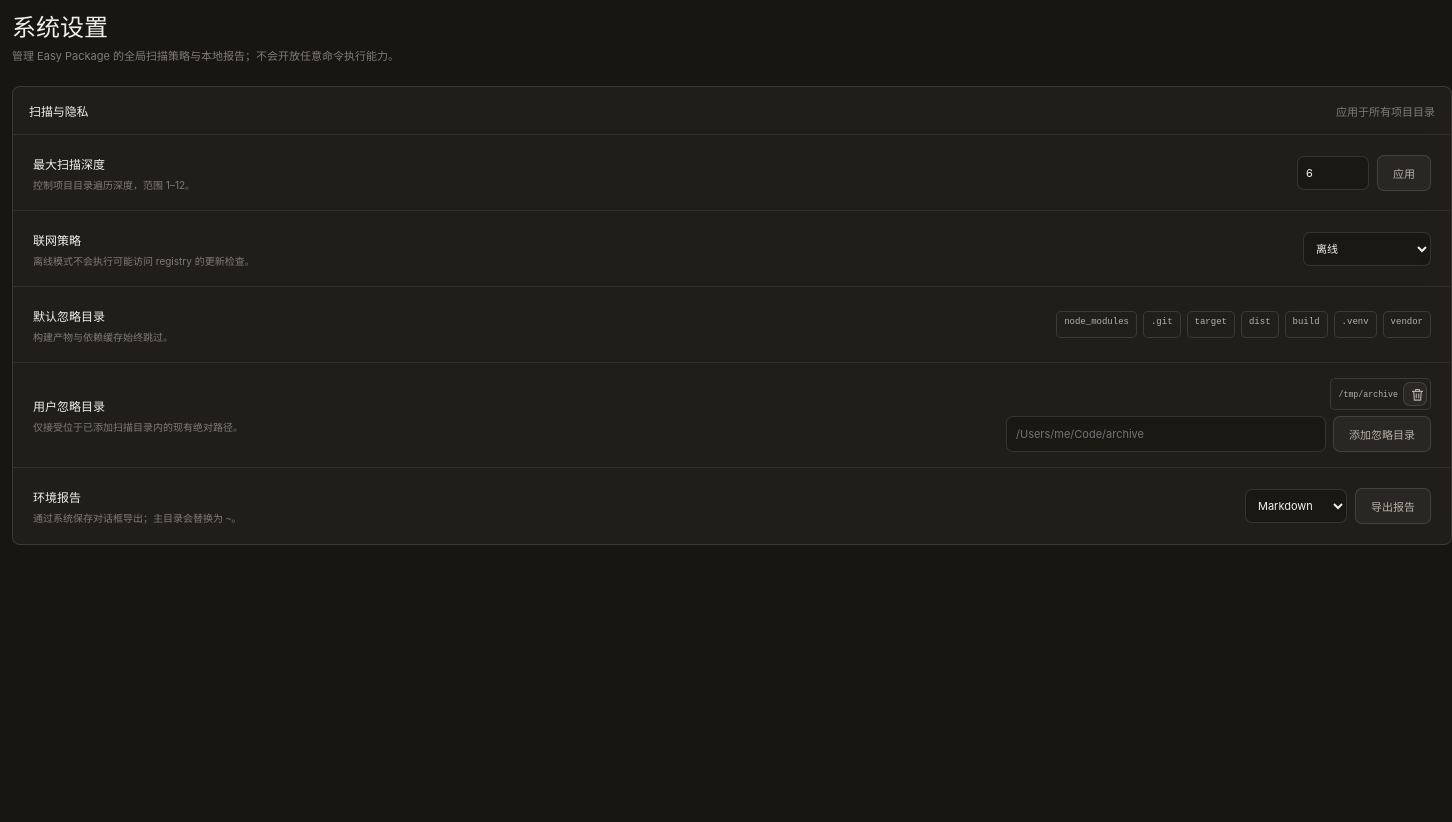
it: SettingsPage › 校验忽略路径并导出环境报告
The image size is (1452, 822).
Type "relative/path" into the field named "忽略目录" at {"x": 1166, "y": 434}, box [1006,416,1326,452]
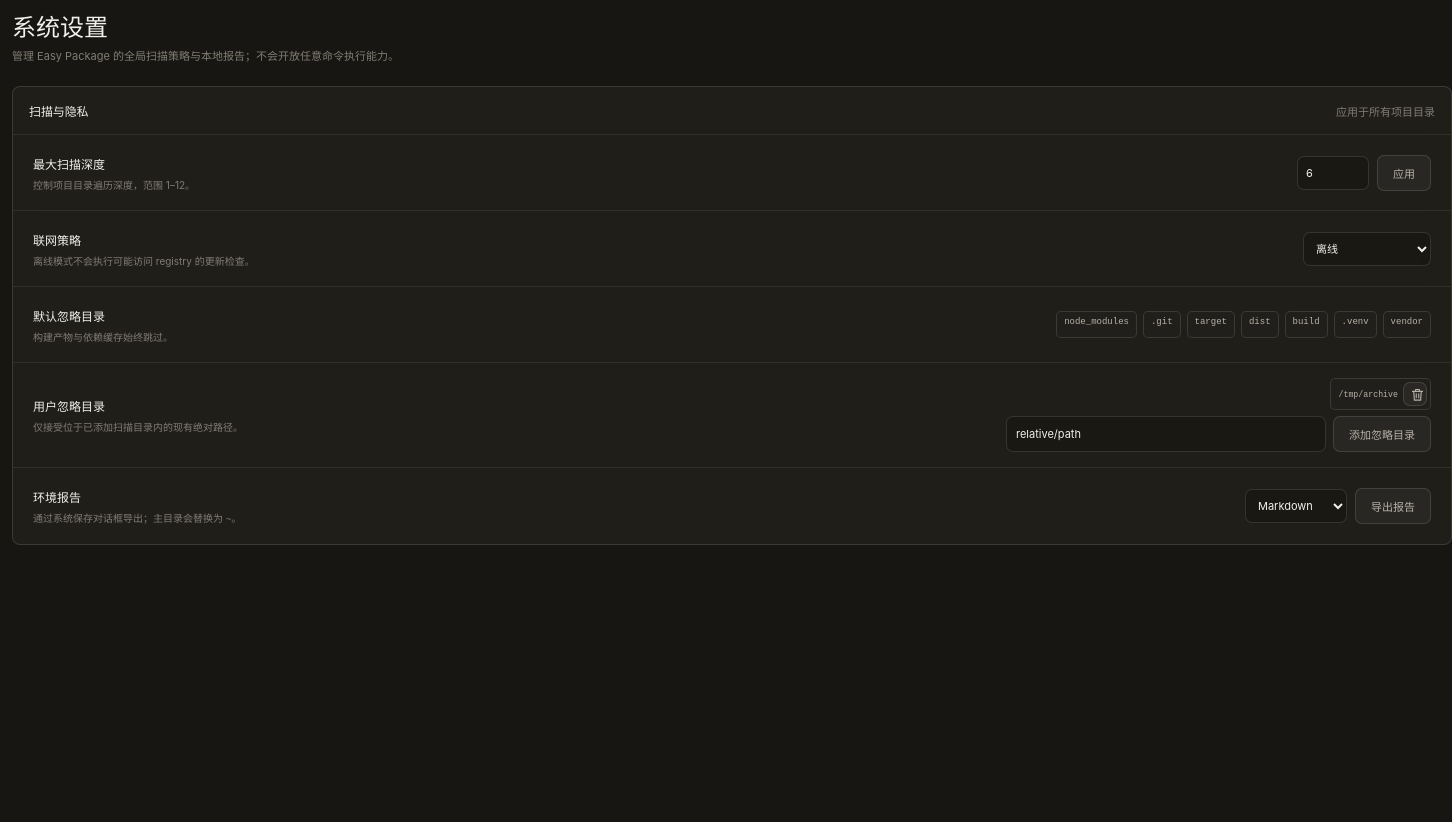
Click the button "添加忽略目录" at {"x": 1382, "y": 434}, box [1333,416,1431,452]
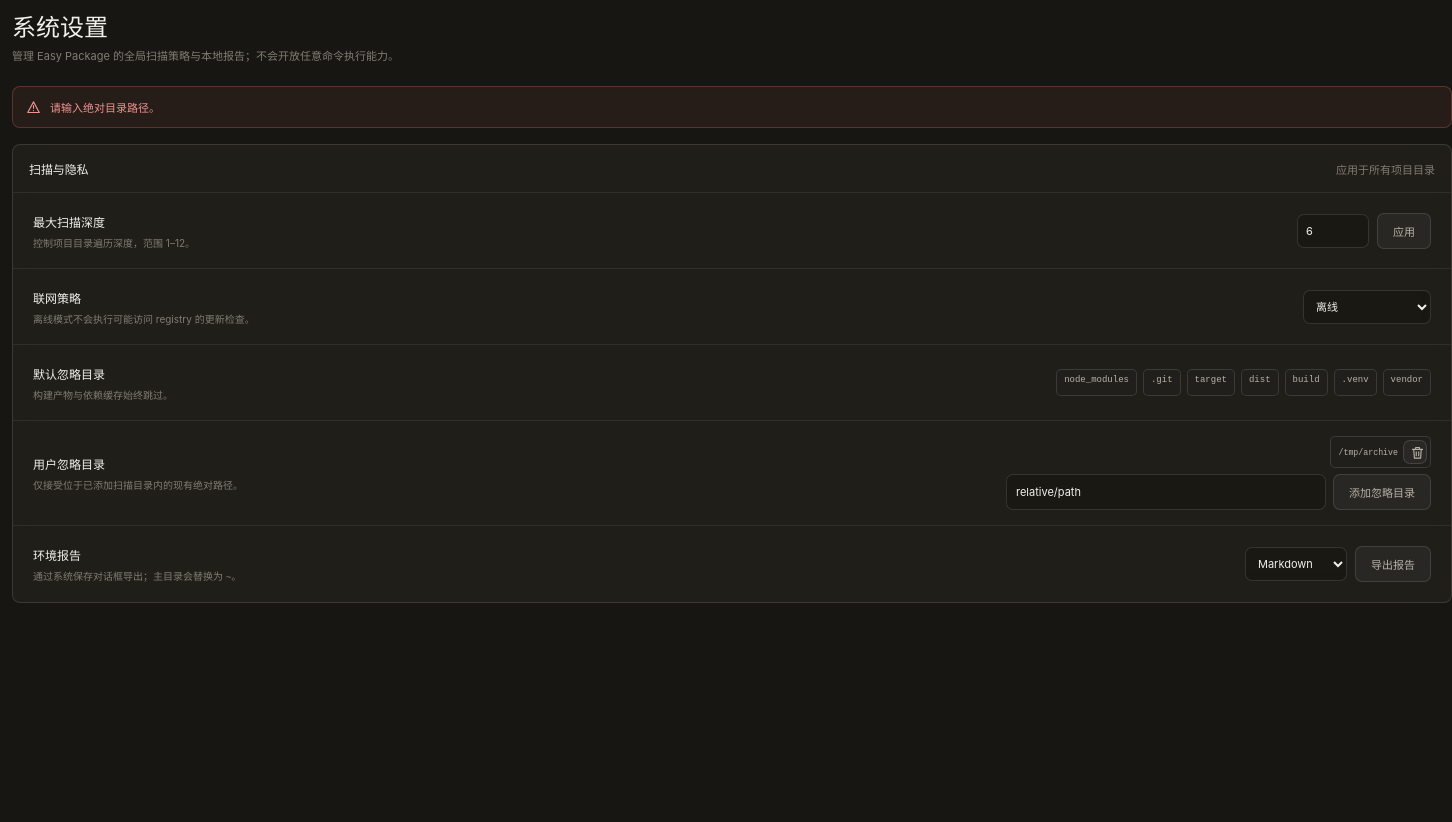
Expected: the text "请输入绝对目录路径。" is shown, [50,99,160,115]
Select "JSON" in the dropdown named "报告格式" in the row of "通过系统保存对话框导出；主目录会替换为" at {"x": 1296, "y": 564}, box [1245,547,1347,581]
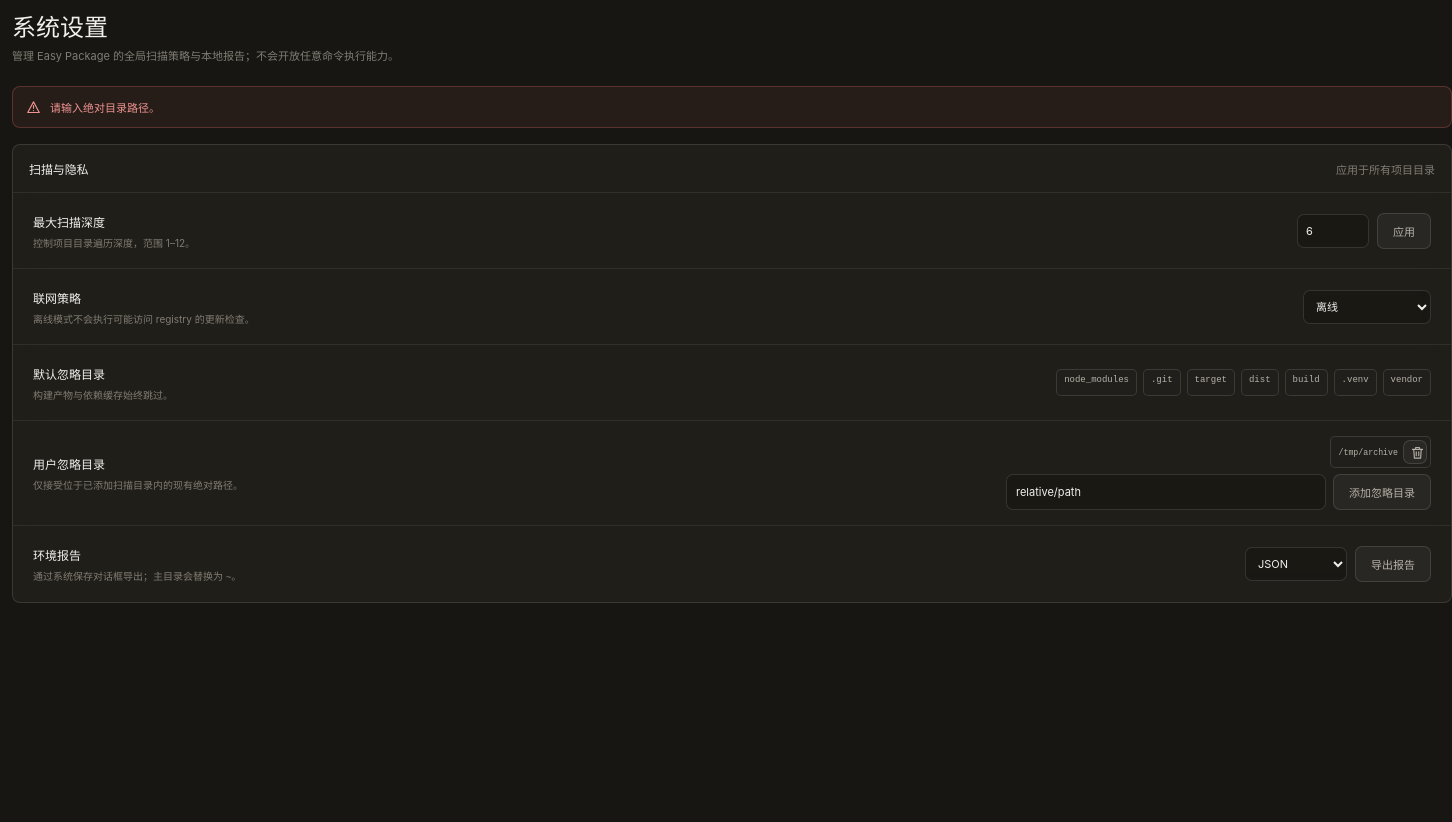
Click the button "导出报告" at {"x": 1393, "y": 564}, box [1355,546,1431,582]
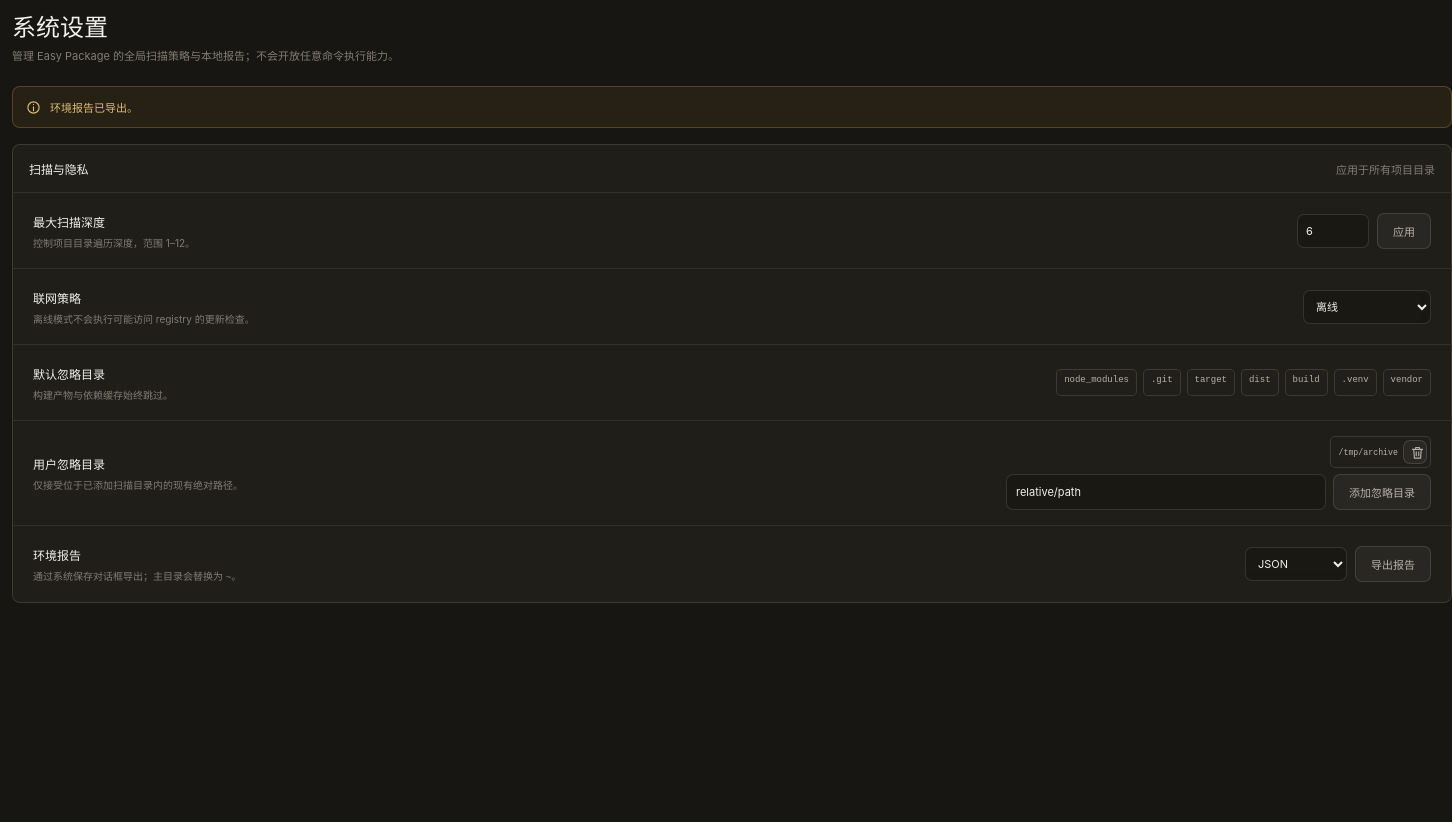
Expected: the text "环境报告已导出。" is shown, [50,99,138,115]
